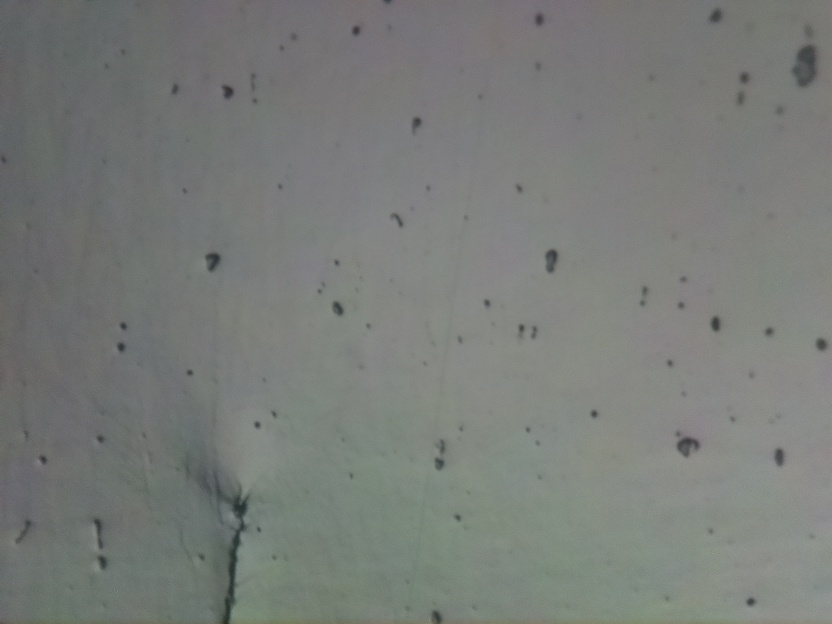crack: (191, 486, 266, 624)
